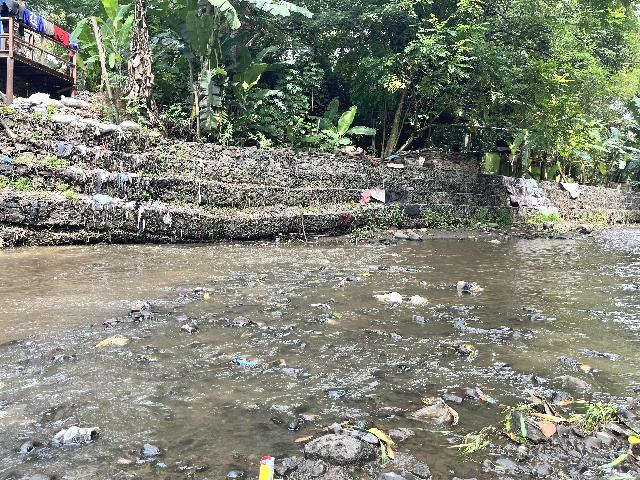Sampah Anorganik: (413, 398, 461, 428), (455, 277, 486, 292), (476, 387, 498, 407), (229, 354, 262, 367), (259, 455, 275, 480), (373, 293, 403, 302), (408, 295, 427, 304), (312, 303, 331, 309), (275, 289, 285, 295), (360, 272, 370, 277)
Sampah Organik: (504, 387, 640, 480), (294, 415, 398, 465), (445, 433, 497, 457), (90, 333, 129, 348), (457, 340, 476, 358), (268, 358, 287, 367), (102, 316, 117, 324), (239, 320, 253, 327), (325, 317, 337, 325), (197, 367, 228, 370), (578, 363, 591, 370), (333, 311, 343, 318), (203, 292, 213, 299), (273, 304, 290, 307), (256, 280, 262, 285), (341, 278, 345, 285)
